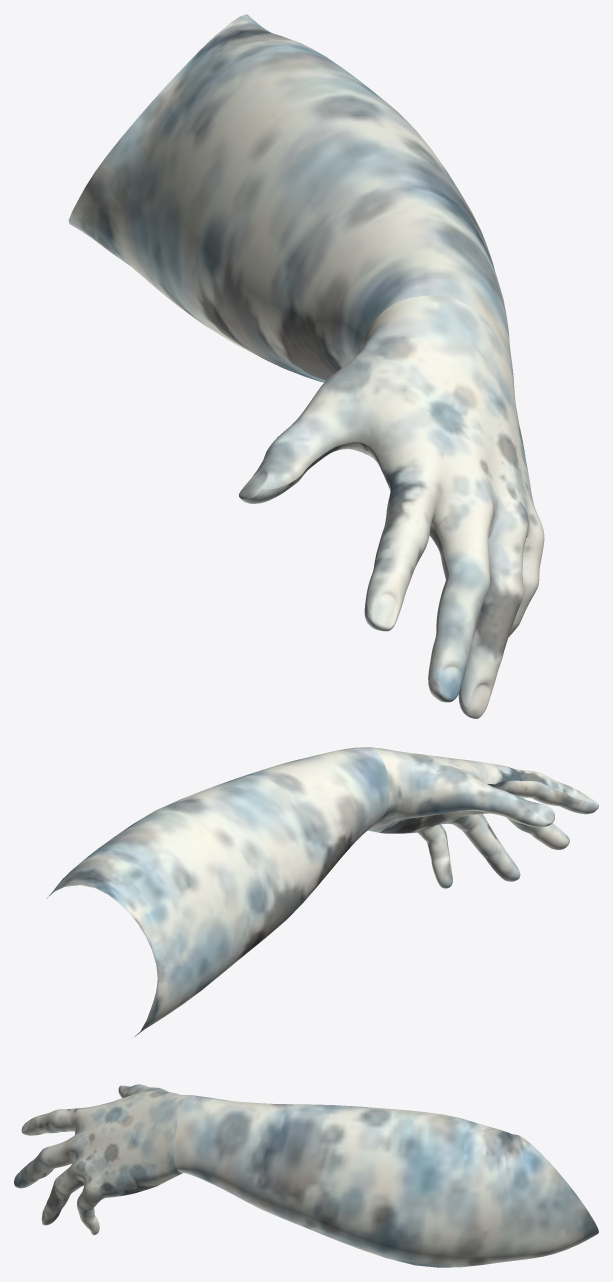
The model's file is dirty-hand.glb.
The picture shows the model from 3 angles, top to bottom: view 1: azimuth 30°, elevation 25°; view 2: azimuth 150°, elevation 25°; view 3: azimuth 270°, elevation 25°; orthographic projection. The views are drawn at different scales.
Visible parts, largest first — view 1: base.obj.sub 1; view 2: base.obj.sub 1; view 3: base.obj.sub 1.
Boxes of the visible parts, <box> form: base.obj.sub 1: <box>68,14,544,718</box>; base.obj.sub 1: <box>46,747,598,1036</box>; base.obj.sub 1: <box>14,1084,598,1267</box>.
Bounding box in the file's own units: 0.0223 × 0.0142 × 0.047.
Materials: 1 (1 with a texture image).
